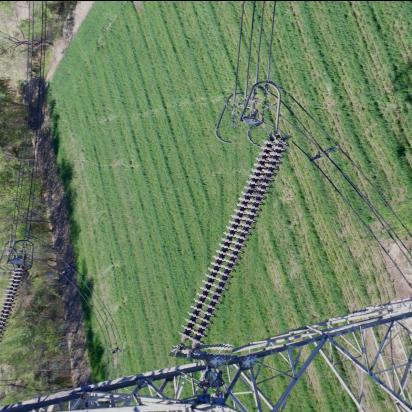insulator: (187, 123, 279, 371), (1, 264, 26, 365)
